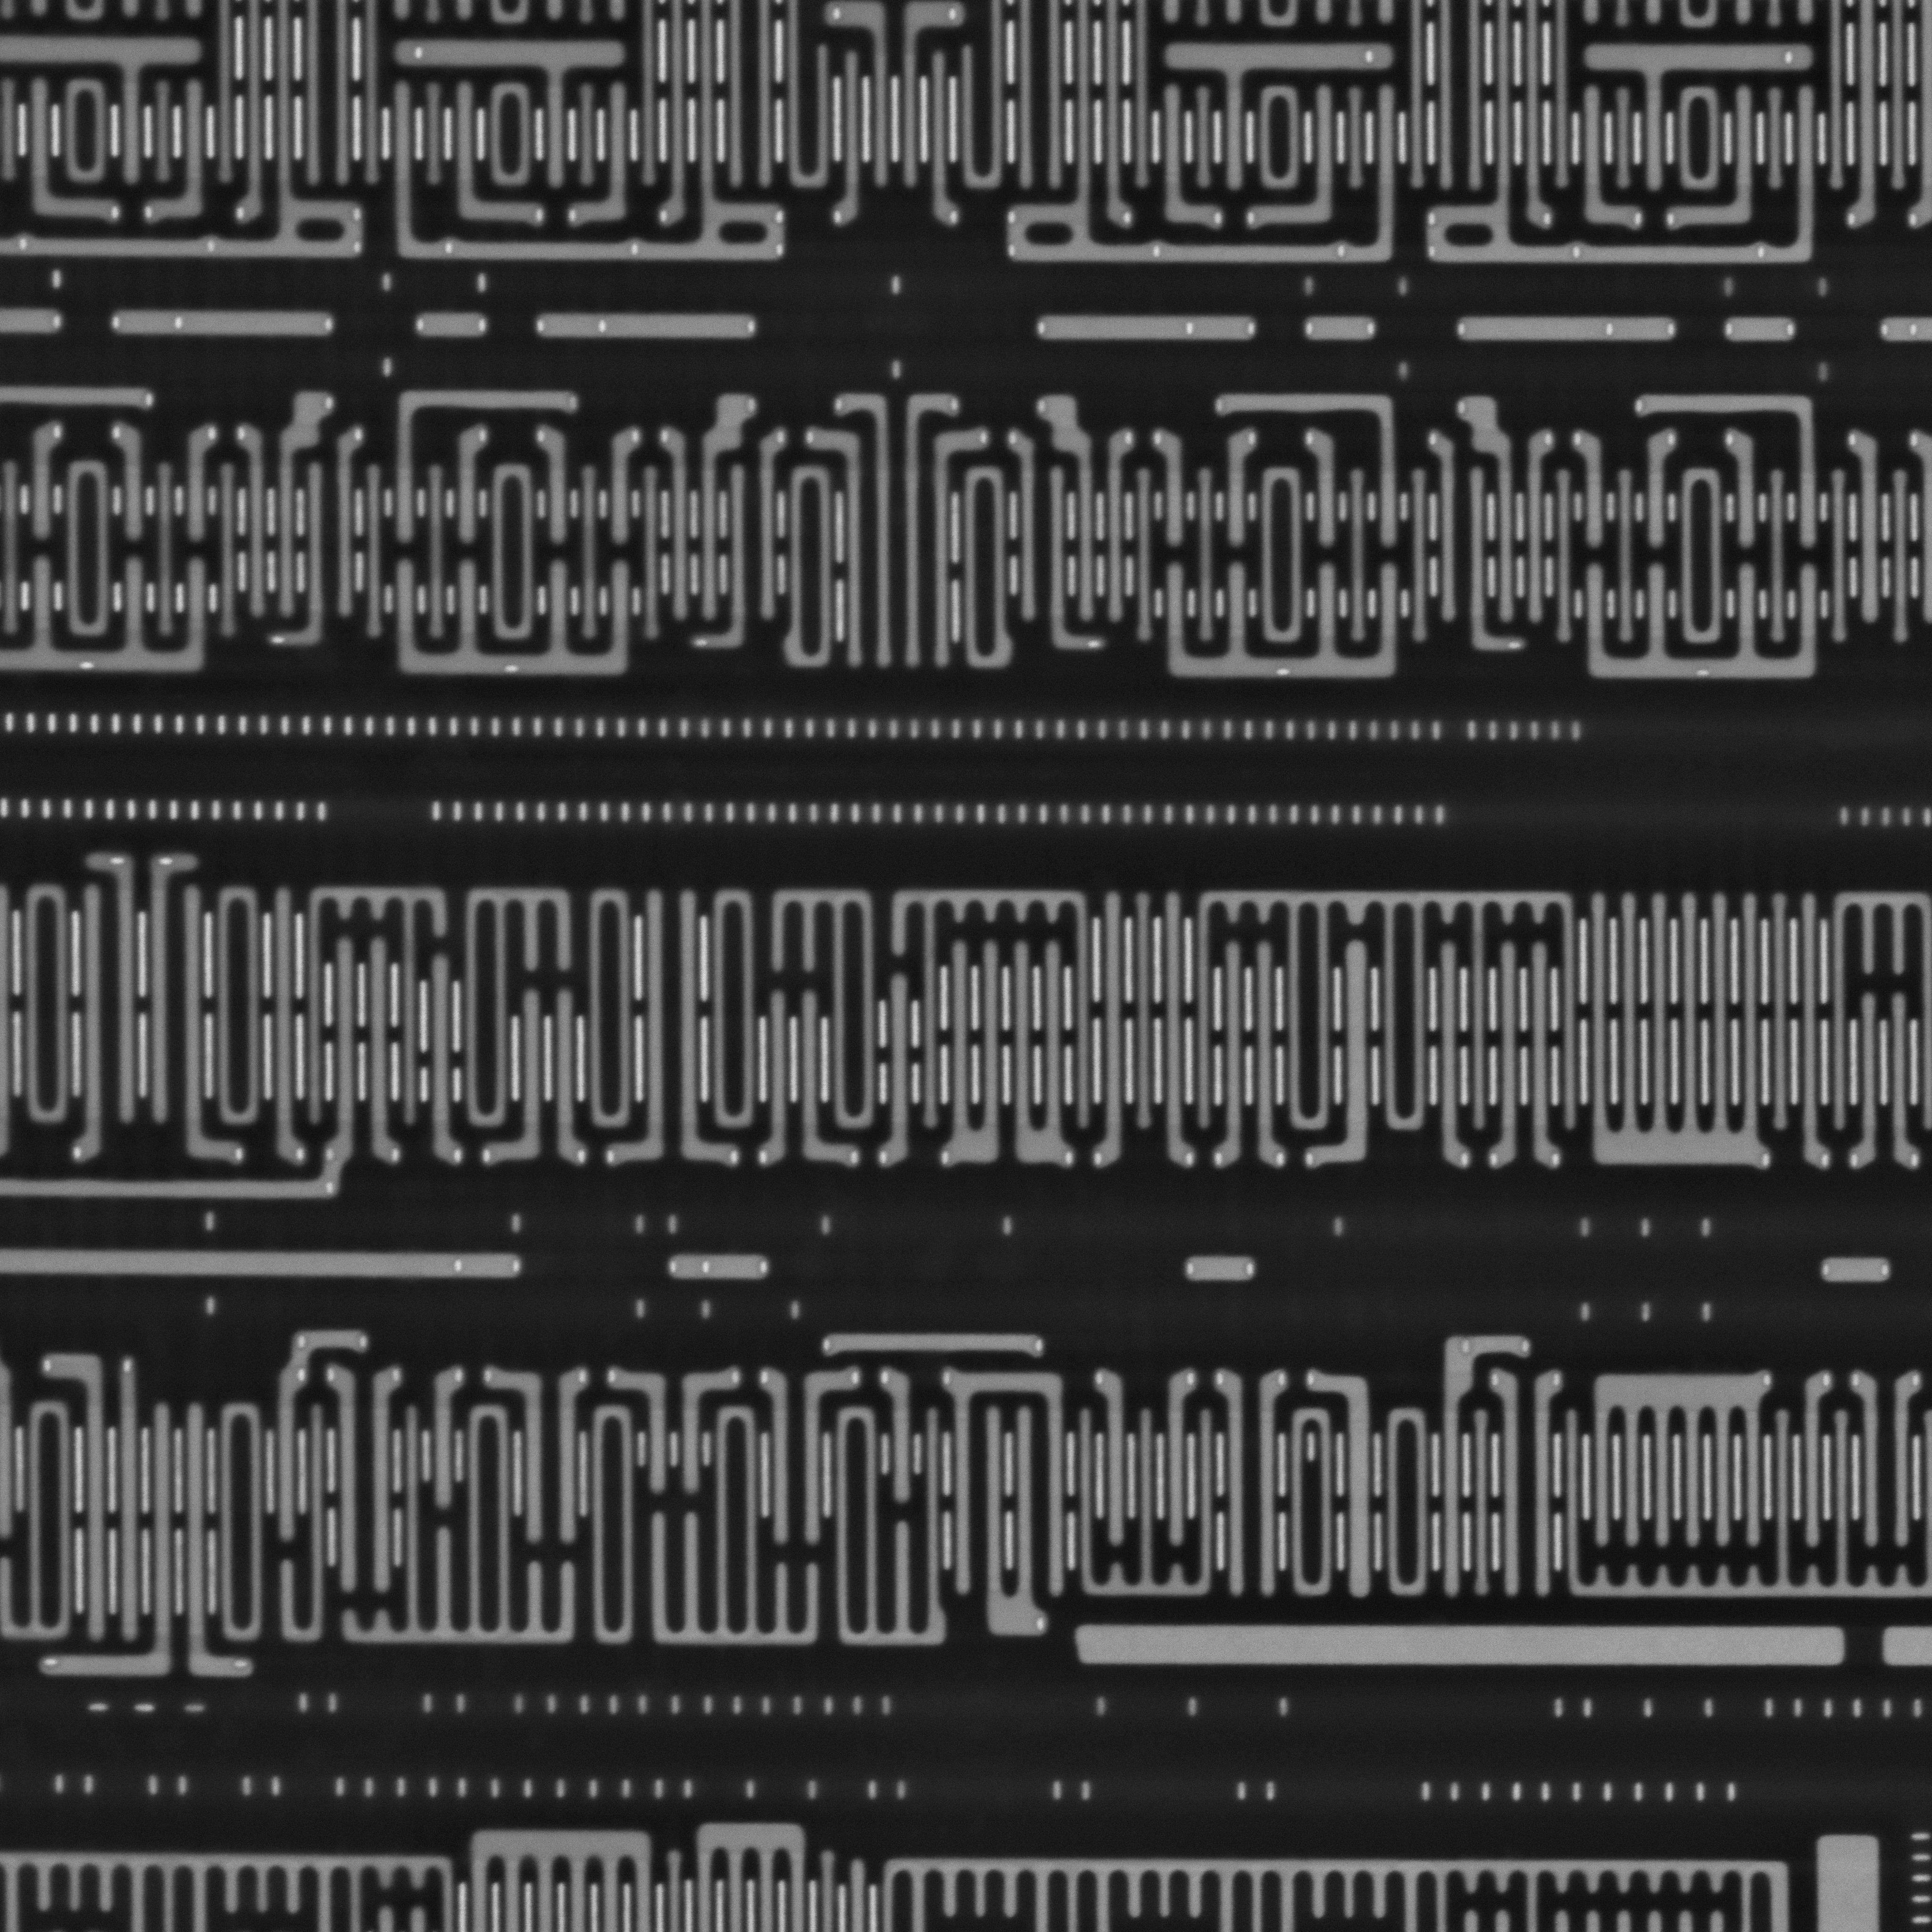circularDummy: (1076, 1624, 1851, 1668)
doubleGate: (934, 934, 1014, 1169), (998, 936, 1077, 1171)
multiGate: (1578, 890, 1775, 1168), (1582, 1368, 1776, 1557), (382, 556, 648, 694), (1569, 564, 1829, 688)
publicGate: (73, 849, 246, 1173), (807, 391, 987, 692), (605, 876, 738, 1177), (939, 1364, 1079, 1638), (1491, 1362, 1569, 1601), (1849, 1369, 1925, 1560)
resistor: (1035, 310, 1258, 347), (821, 1325, 1049, 1359), (534, 311, 763, 343), (1460, 311, 1679, 340), (108, 308, 340, 333), (667, 1253, 770, 1281), (1180, 1254, 1258, 1284), (1819, 1256, 1897, 1286), (1723, 315, 1803, 343), (412, 310, 490, 338), (1299, 315, 1380, 338)
singleGate: (37, 1348, 119, 1642), (175, 1399, 258, 1684), (1302, 1366, 1384, 1601), (1302, 936, 1382, 1173), (264, 387, 338, 621), (1458, 395, 1530, 626), (690, 389, 757, 623), (260, 872, 311, 1171), (16, 73, 120, 219), (444, 80, 548, 225), (1667, 83, 1767, 232), (1247, 83, 1348, 228), (481, 987, 557, 1178), (1152, 886, 1200, 1175), (1086, 893, 1136, 1164), (1787, 890, 1833, 1178), (791, 991, 863, 1169), (1568, 80, 1649, 232), (1146, 73, 1224, 226), (354, 929, 405, 1157), (600, 1362, 683, 1499), (1424, 938, 1472, 1173), (1842, 425, 1893, 642), (1486, 939, 1532, 1173), (1208, 941, 1256, 1164), (570, 85, 642, 226), (1244, 939, 1288, 1171), (667, 1361, 741, 1497), (1520, 939, 1562, 1175), (874, 977, 925, 1171), (418, 954, 465, 1162), (145, 76, 214, 219), (1093, 423, 1141, 628), (1879, 984, 1925, 1184), (235, 425, 280, 630), (1518, 426, 1562, 632), (543, 987, 591, 1175), (1090, 1366, 1139, 1546), (752, 991, 800, 1177), (1789, 1368, 1836, 1550), (1154, 1369, 1200, 1555), (1849, 987, 1890, 1189), (918, 48, 961, 230), (658, 428, 697, 623), (830, 46, 870, 226), (421, 1362, 467, 1518), (1210, 421, 1260, 557), (1148, 421, 1196, 561), (1297, 428, 1350, 554), (1569, 432, 1622, 554), (1716, 426, 1769, 547), (881, 1369, 925, 1511), (18, 421, 65, 552), (106, 423, 156, 545), (170, 425, 219, 545), (446, 423, 492, 548), (536, 425, 582, 548), (598, 426, 644, 543), (1637, 426, 1679, 552)
